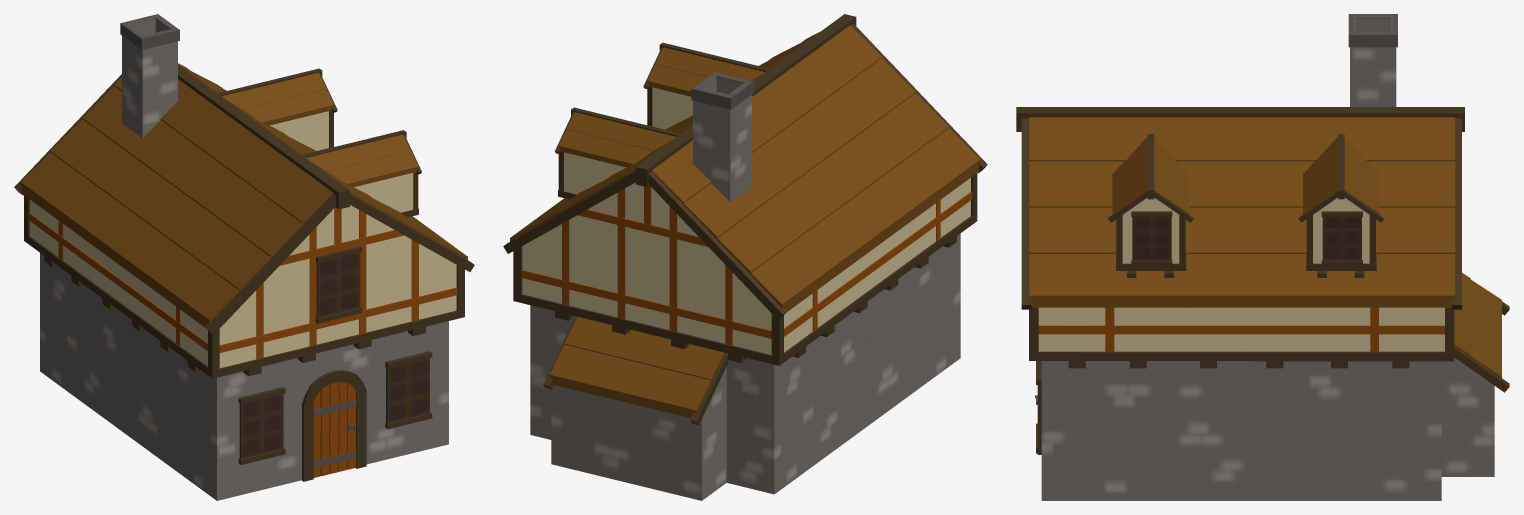
Rendered from ExplodedHouseCastle#2.fbx.
The picture shows the model from 3 angles, left to right: view 1: azimuth 30°, elevation 25°; view 2: azimuth 150°, elevation 25°; view 3: azimuth 270°, elevation 25°; orthographic projection. The views are drawn at different scales.
Parts seen in each view (by area): view 1: Cube.1257, Cube.1244_cell.003, Cube.1256, Cube.1244_cell.010, Cube.1255, Cube.1244_cell.005, Cube.1254, Cube.1244_cell.014, Cube.1295, Cube.1223, Cube.1244_cell.004, Cube.1244_cell.011 (+31 smaller); view 2: Cube.1290, Cube.1257, Cube.1256, Cube.1244_cell.014, Cube.1255, Cube.1254, Cube.1244_cell.011, Cube.1244_cell.007, Cube.1244_cell.003, Cube.1295, Cube.1291, Cube.1244_cell.015 (+28 smaller); view 3: Cube.1244_cell.010, Cube.1244_cell.016, Cube.1253, Cube.1250, Cube.1252, Cube.1251, Cube.1290, Cube.1223, Cube.1245, Cube.1295, Cube.1224, Cube.1244_cell.013 (+18 smaller).
Boxes of the visible parts, left/top/right/bottom form: Cube.1257: left=20, top=152, right=238, bottom=327; Cube.1244_cell.003: left=128, top=357, right=376, bottom=500; Cube.1256: left=50, top=119, right=270, bottom=291; Cube.1244_cell.010: left=331, top=290, right=456, bottom=461; Cube.1255: left=82, top=86, right=302, bottom=257; Cube.1244_cell.005: left=118, top=297, right=335, bottom=432; Cube.1254: left=114, top=77, right=332, bottom=224; Cube.1244_cell.014: left=40, top=302, right=128, bottom=435; Cube.1295: left=120, top=14, right=179, bottom=137; Cube.1223: left=24, top=195, right=464, bottom=378; Cube.1244_cell.004: left=120, top=265, right=309, bottom=344; Cube.1244_cell.011: left=30, top=221, right=126, bottom=343; Cube.1290: left=551, top=367, right=726, bottom=500; Cube.1257: left=751, top=128, right=980, bottom=312; Cube.1256: left=717, top=93, right=949, bottom=274; Cube.1244_cell.014: left=726, top=334, right=867, bottom=491; Cube.1255: left=683, top=58, right=915, bottom=239; Cube.1254: left=652, top=25, right=881, bottom=204; Cube.1244_cell.011: left=685, top=309, right=864, bottom=421; Cube.1244_cell.007: left=648, top=247, right=876, bottom=335; Cube.1244_cell.003: left=867, top=286, right=960, bottom=425; Cube.1295: left=691, top=72, right=753, bottom=202; Cube.1291: left=550, top=345, right=710, bottom=418; Cube.1244_cell.015: left=585, top=182, right=701, bottom=313; Cube.1244_cell.010: left=1038, top=307, right=1244, bottom=500; Cube.1244_cell.016: left=1237, top=334, right=1444, bottom=500; Cube.1253: left=1029, top=254, right=1455, bottom=307; Cube.1250: left=1029, top=117, right=1455, bottom=161; Cube.1252: left=1029, top=207, right=1455, bottom=253; Cube.1251: left=1029, top=161, right=1455, bottom=207; Cube.1290: left=1441, top=358, right=1494, bottom=476; Cube.1223: left=1029, top=307, right=1454, bottom=361; Cube.1245: left=1016, top=107, right=1464, bottom=131; Cube.1295: left=1348, top=14, right=1397, bottom=106; Cube.1224: left=1038, top=325, right=1444, bottom=334; Cube.1244_cell.013: left=1242, top=307, right=1444, bottom=325.
Bounding box in the file's own units: 1517 × 1896 × 2157.
